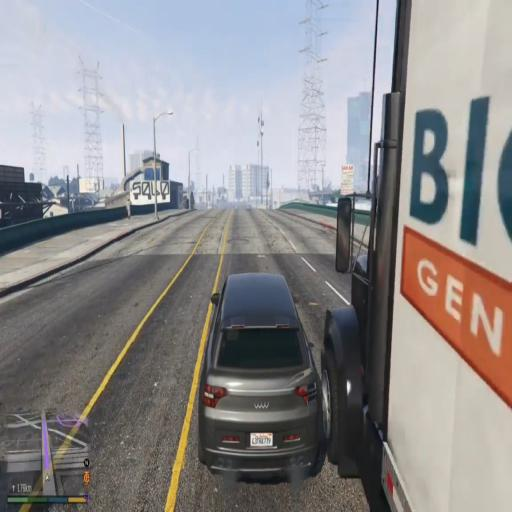Cars: (195, 267, 324, 488)
People: (126, 196, 132, 220)
